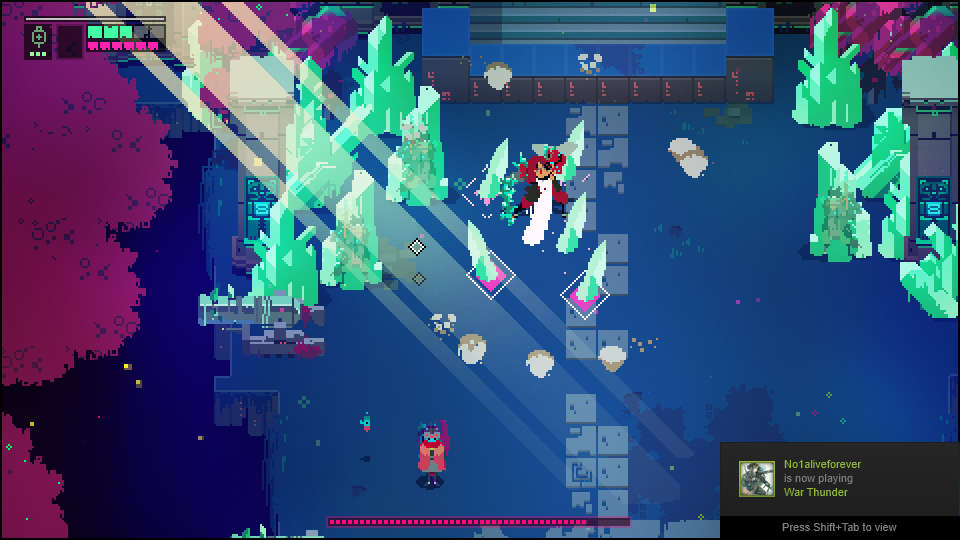hanged_crys: (479, 130, 511, 202), (460, 223, 496, 283), (557, 188, 583, 255), (579, 241, 605, 298)
hanged_man: (502, 150, 580, 233)
player: (417, 419, 445, 489)
